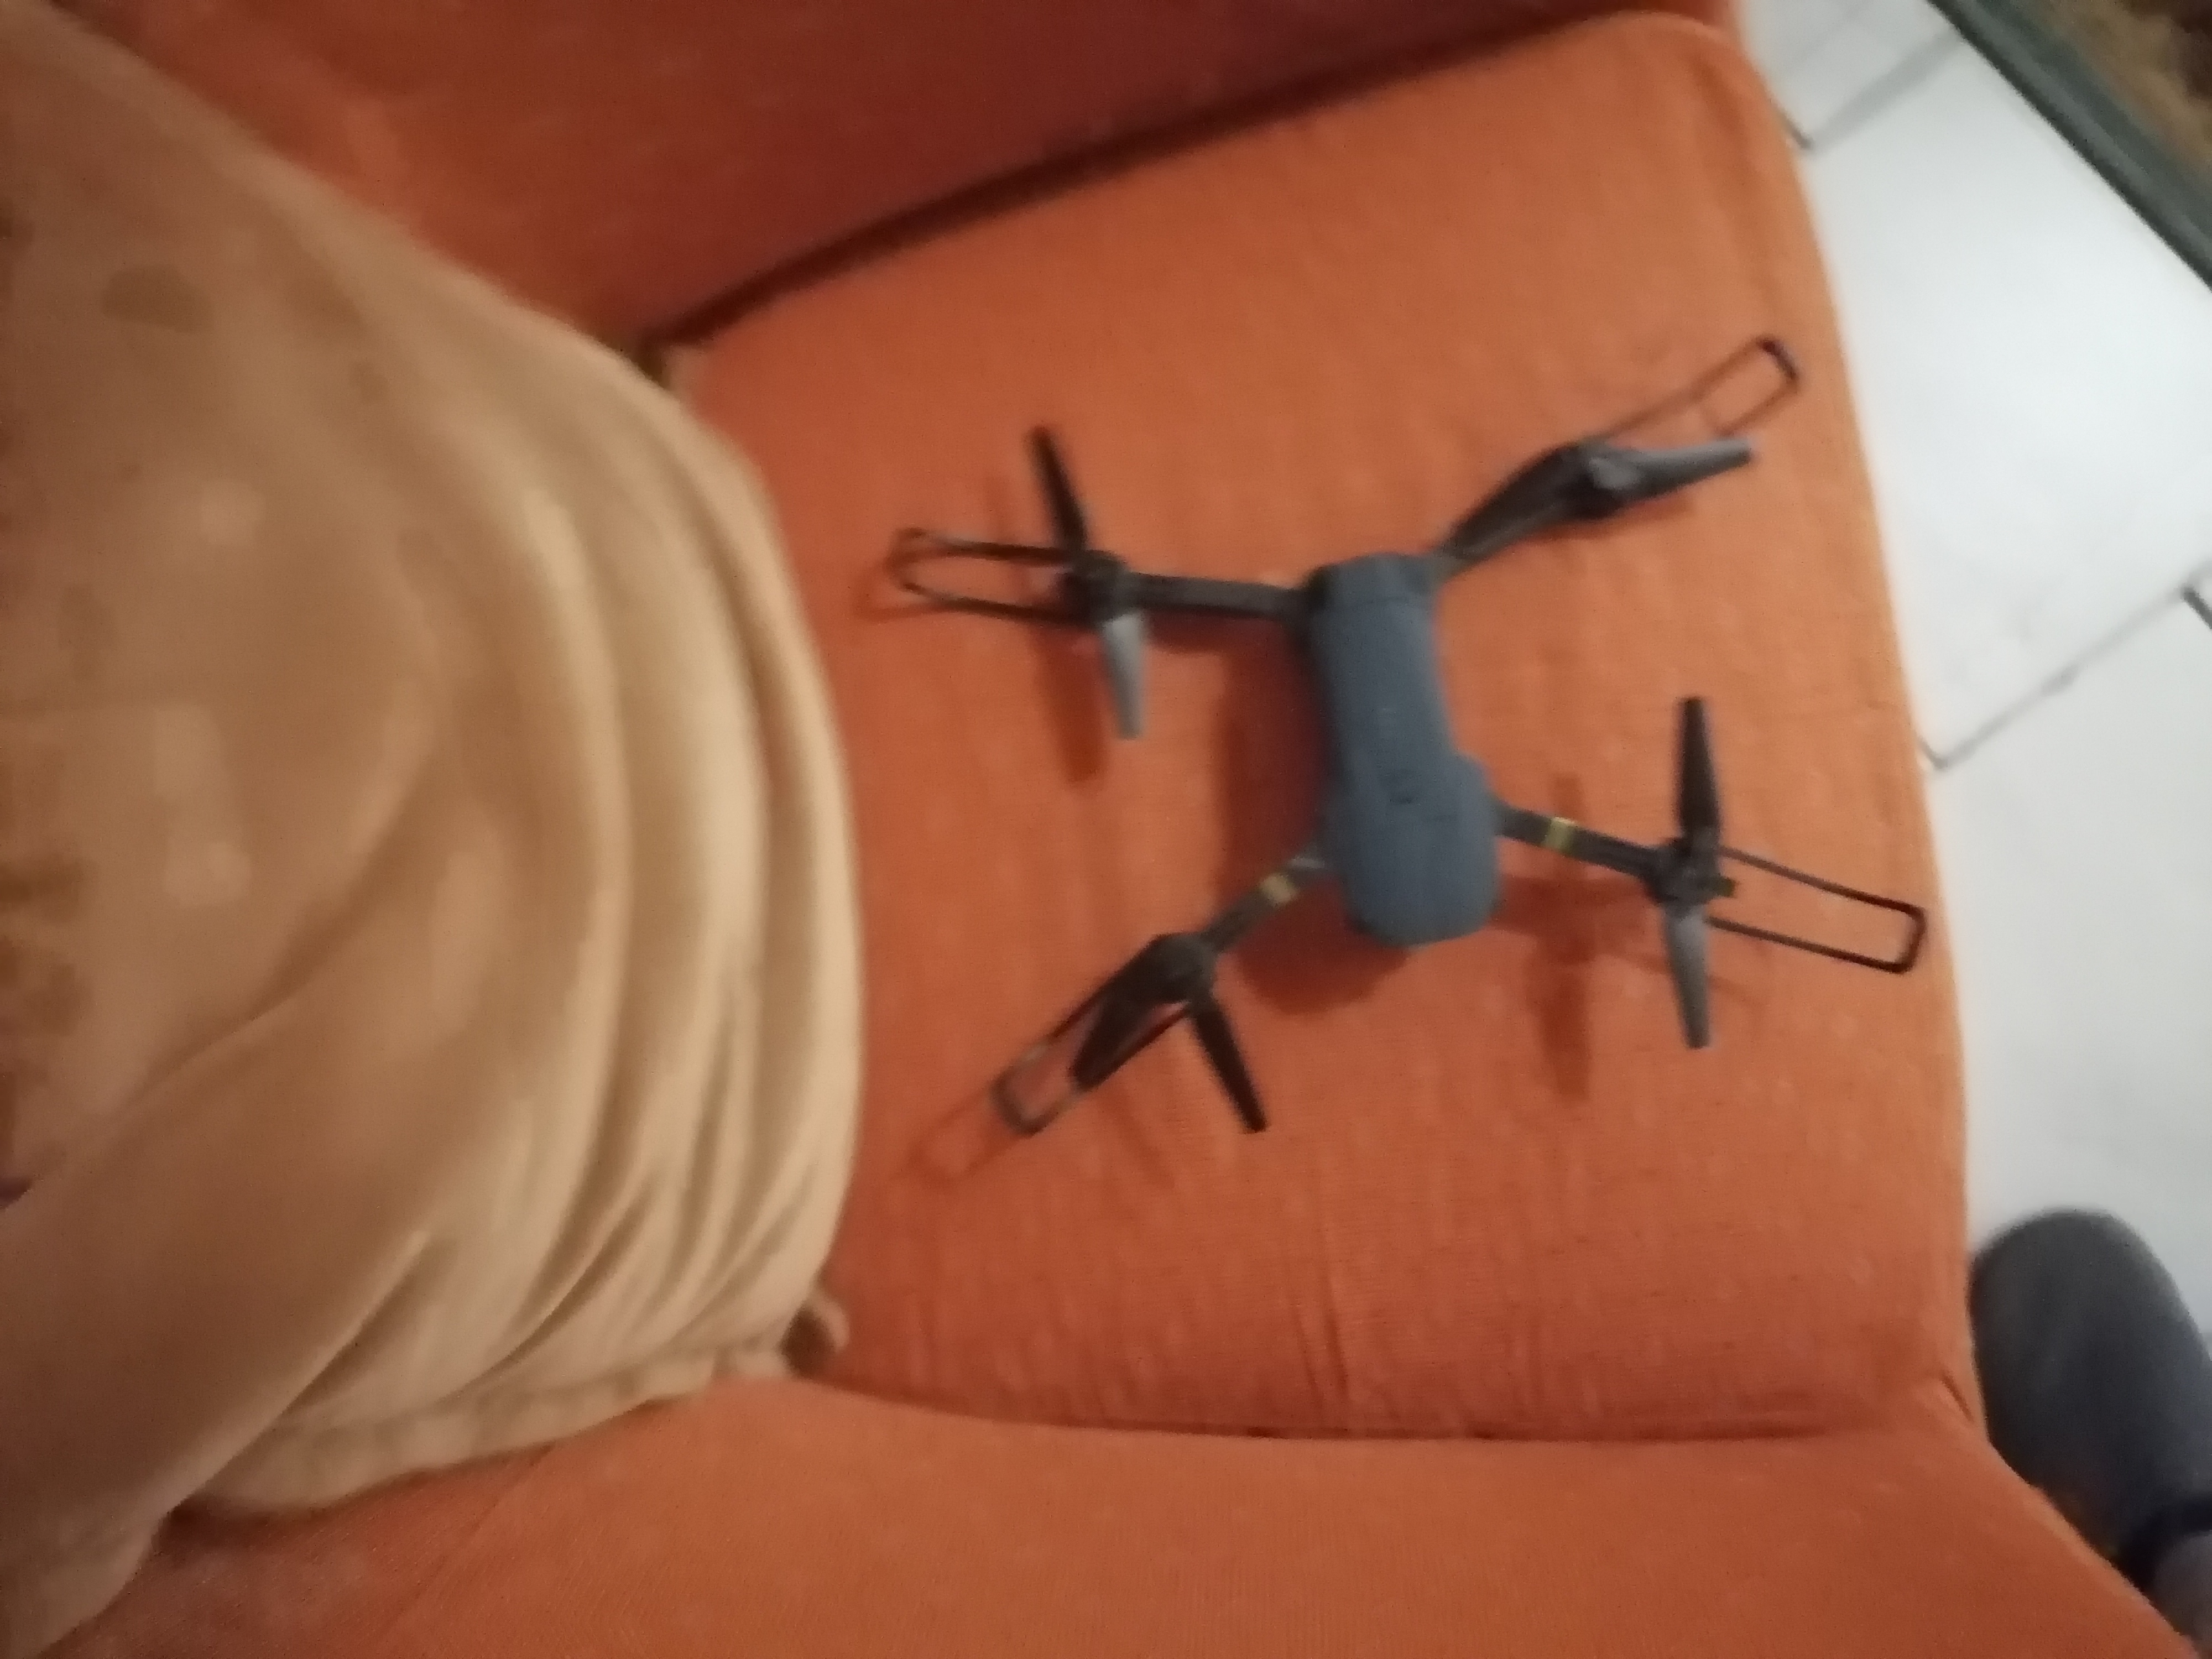drone: (956, 420, 1865, 1124)
